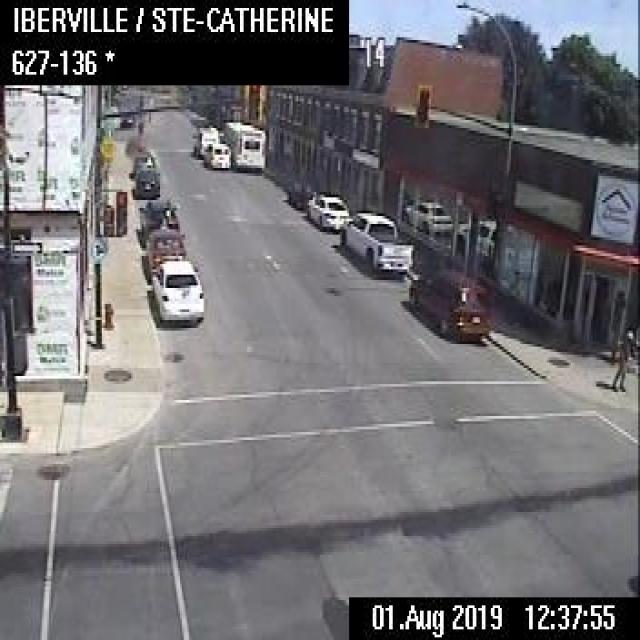bus: (218, 117, 264, 168)
pedestrian: (609, 328, 633, 387)
vehicle: (404, 264, 485, 339), (339, 207, 413, 275), (149, 253, 204, 328), (142, 225, 188, 282), (135, 193, 178, 240), (304, 189, 347, 230), (131, 166, 160, 202), (285, 178, 316, 207), (190, 123, 218, 153), (203, 141, 230, 169), (130, 149, 154, 171)
